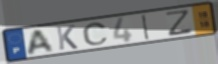4: (112, 16, 136, 44)
A: (26, 28, 56, 57)
C: (81, 22, 110, 47)
I: (141, 13, 151, 41)
K: (55, 24, 80, 52)
Z: (165, 8, 193, 37)
